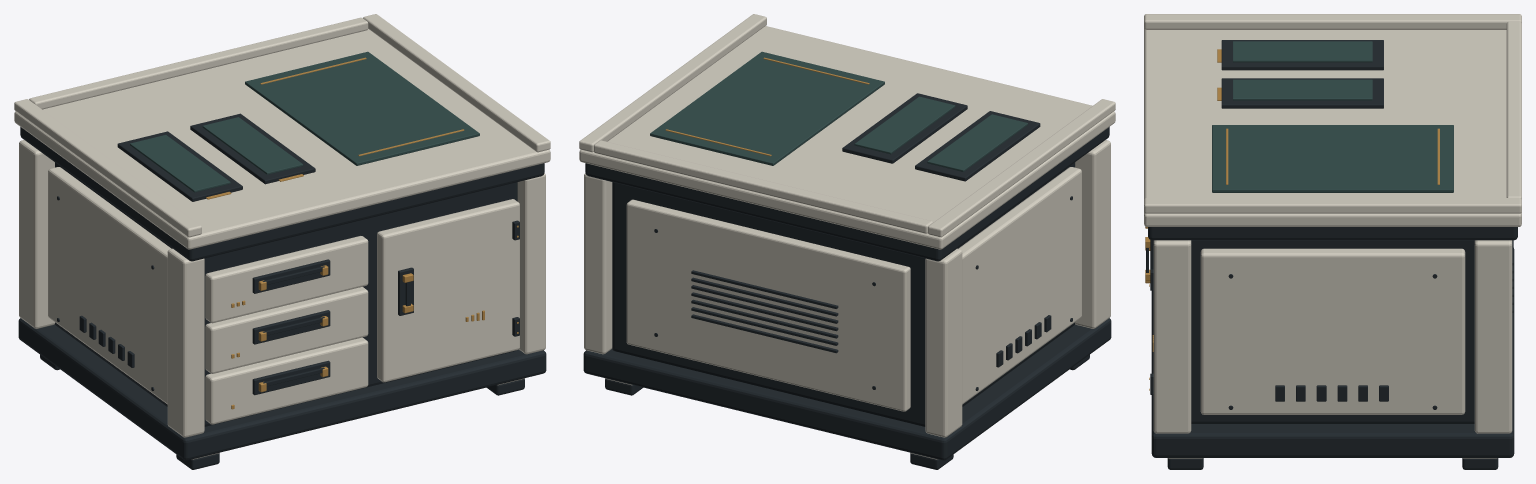
File: SM_Aurelion_KIT_Z08MedicalSideboard.fbx
3 renders of one model, left to right at view 1: azimuth 30°, elevation 25°; view 2: azimuth 150°, elevation 25°; view 3: azimuth 270°, elevation 25°, orthographic. The views are drawn at different scales.
Parts seen in each view (by area): view 1: SM_Aurelion_KIT_Z08MedicalSideboard; view 2: SM_Aurelion_KIT_Z08MedicalSideboard; view 3: SM_Aurelion_KIT_Z08MedicalSideboard.
Boxes of the visible parts, x1,y1,x2,y2 form: SM_Aurelion_KIT_Z08MedicalSideboard: (14, 14, 550, 469); SM_Aurelion_KIT_Z08MedicalSideboard: (579, 14, 1115, 469); SM_Aurelion_KIT_Z08MedicalSideboard: (1144, 14, 1521, 469).
Bounding box in the file's own units: 120 × 100 × 80.
